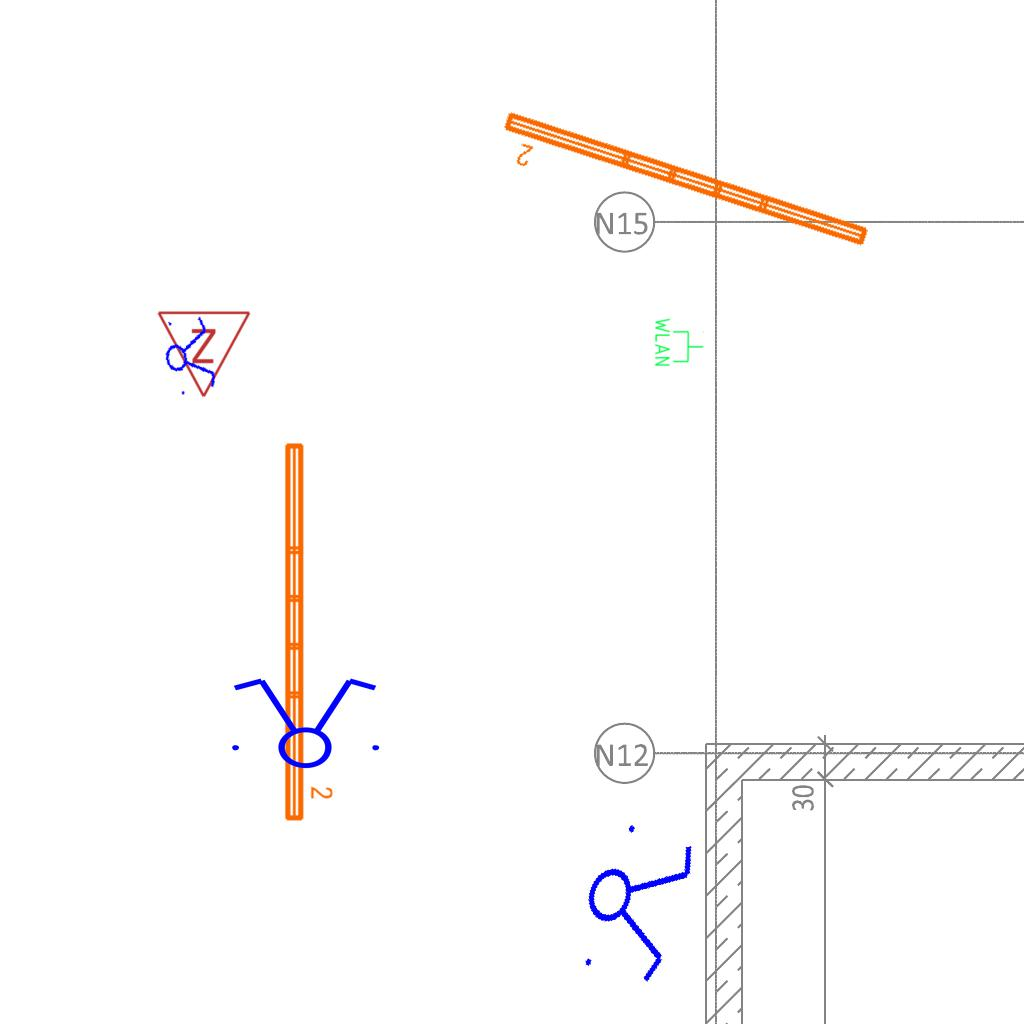Ambulanz_Pendelleuchte_LED: (489, 104, 876, 278), (279, 438, 335, 825)
Serienschalter: (563, 807, 707, 997), (220, 674, 388, 770), (157, 309, 221, 401)
WLAN: (653, 316, 705, 368)
Zimmersignalleuchte: (156, 304, 254, 404)
